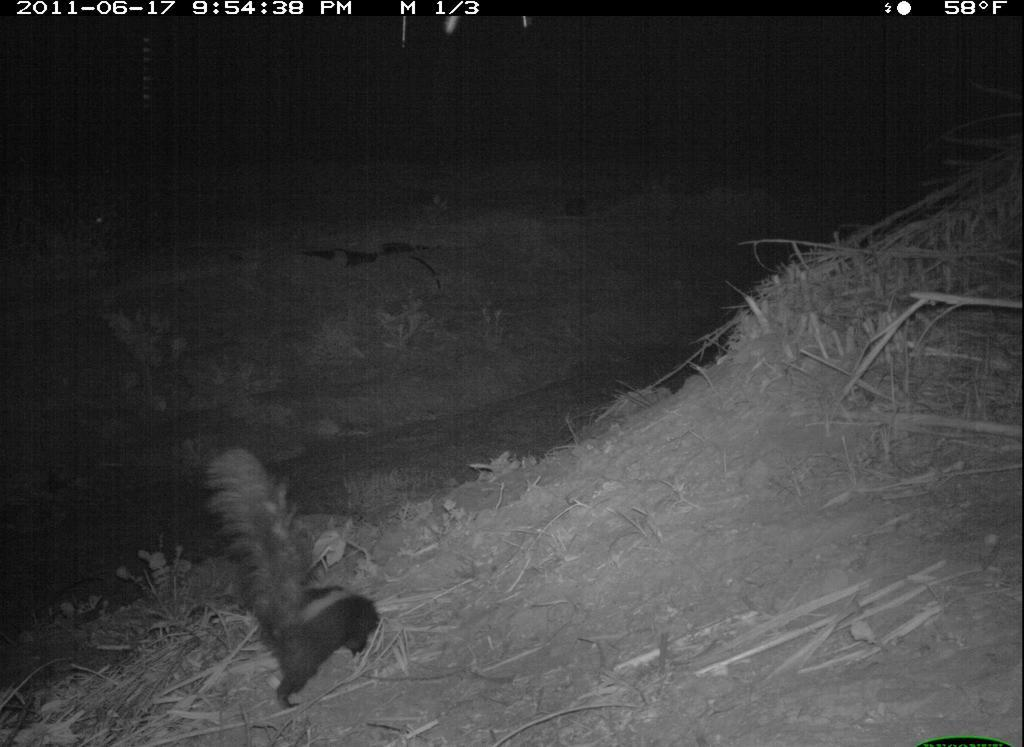skunk: (204, 440, 388, 720)
